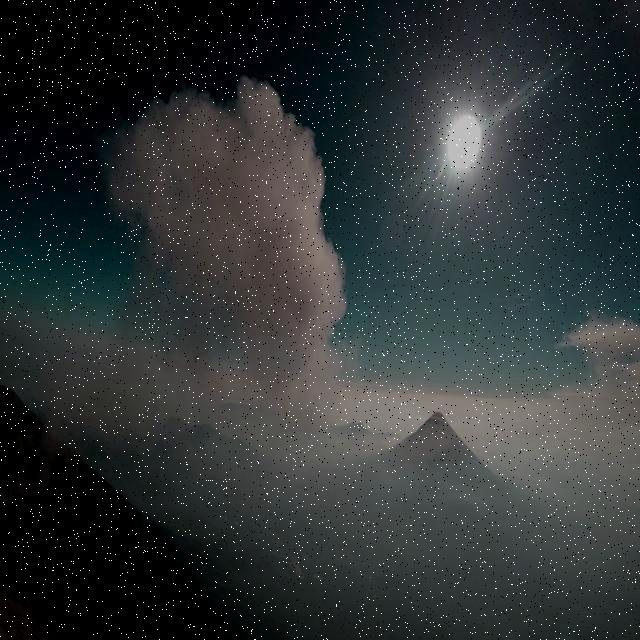Plume: (91, 67, 368, 452)
